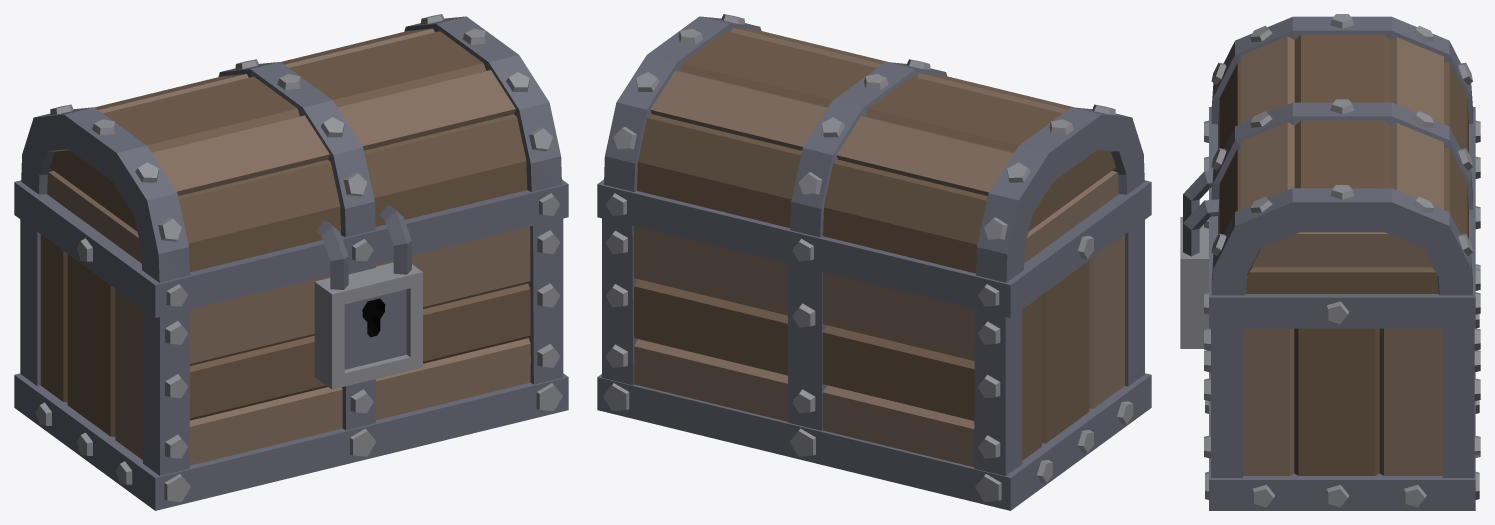
File: _trunk_2.fbx
3 views of the same model, side by side, from view 1: azimuth 30°, elevation 25°; view 2: azimuth 150°, elevation 25°; view 3: azimuth 270°, elevation 25° (orthographic). The views are drawn at different scales.
Parts seen in each view (by area): view 1: trunk_2; view 2: trunk_2; view 3: trunk_2.
Part boxes in pixels (bbox=[...]): trunk_2: bbox=[14, 14, 568, 510]; trunk_2: bbox=[597, 14, 1151, 510]; trunk_2: bbox=[1180, 14, 1480, 510].
Size of the model in its own units: 97.62 by 72.58 by 63.25.
